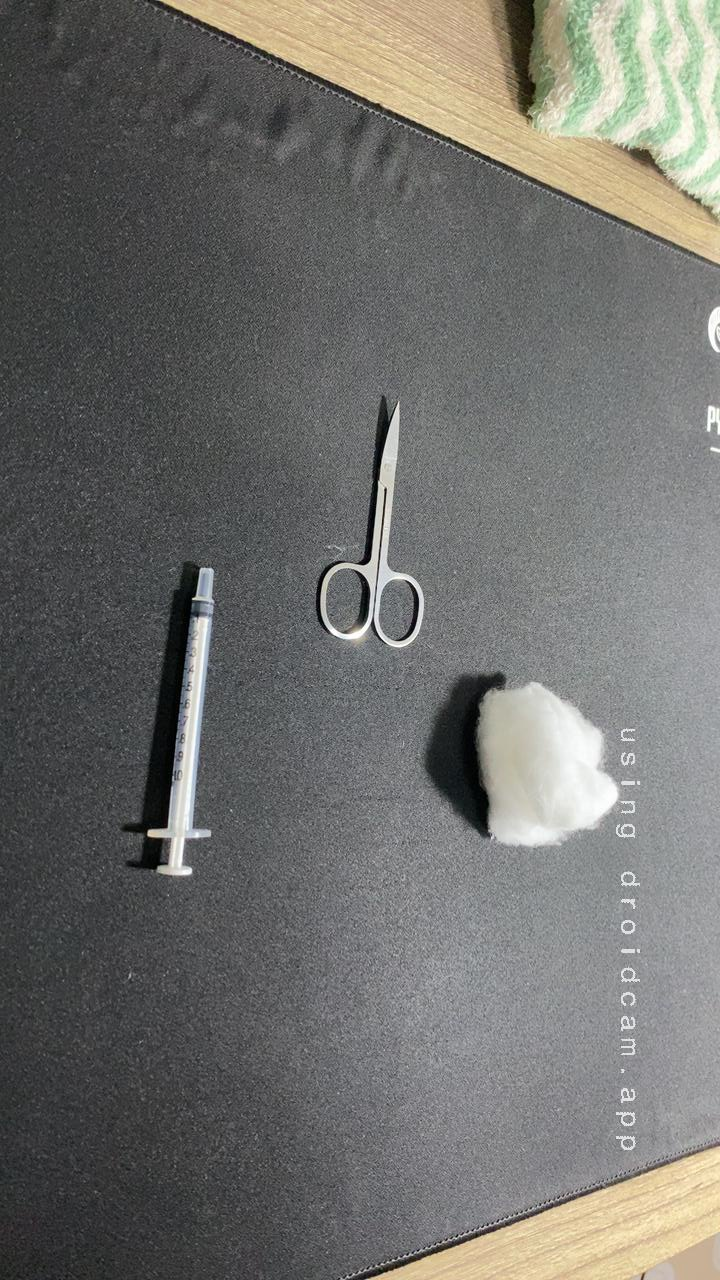cotton: (441, 662, 654, 866)
scissor: (297, 386, 447, 660)
syringe: (102, 538, 287, 891)
